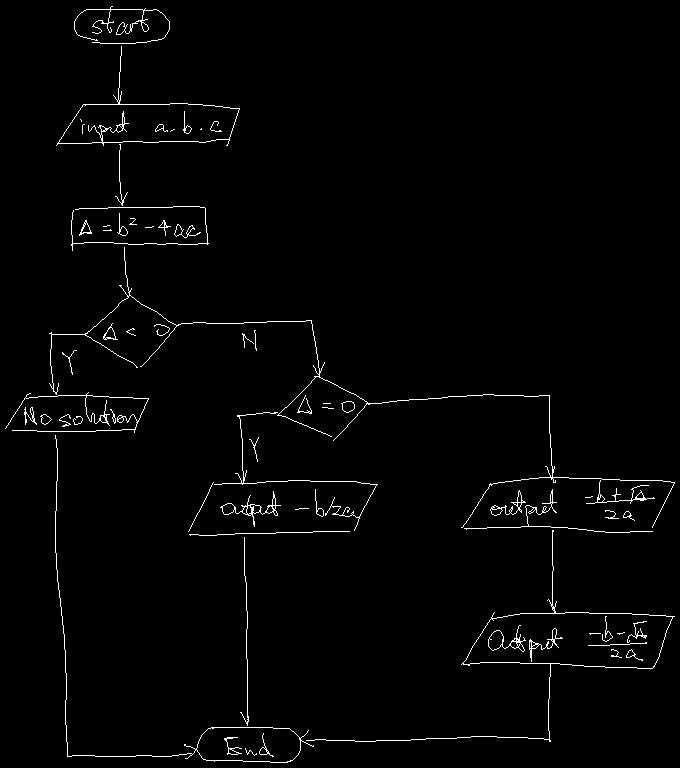arrow: (55, 435, 196, 758), (299, 663, 550, 746), (366, 394, 555, 482), (178, 320, 324, 375), (235, 412, 277, 484), (49, 332, 87, 394), (240, 537, 248, 725), (547, 530, 556, 613), (115, 144, 127, 205), (119, 247, 131, 297), (113, 46, 121, 103)
data: (461, 612, 674, 668), (461, 477, 674, 532), (188, 480, 377, 535), (56, 103, 239, 145), (5, 393, 148, 432)
decision: (84, 295, 177, 367), (277, 376, 367, 440)
process: (71, 206, 208, 250)
terminator: (196, 727, 300, 762), (74, 9, 169, 43)
text: (490, 480, 654, 525), (488, 616, 646, 661), (220, 489, 359, 526), (80, 111, 221, 145), (24, 392, 137, 426), (79, 213, 200, 237), (92, 6, 148, 34), (224, 733, 273, 756), (103, 323, 169, 339), (297, 395, 354, 413), (62, 350, 76, 374), (242, 330, 256, 350), (249, 437, 258, 461)
